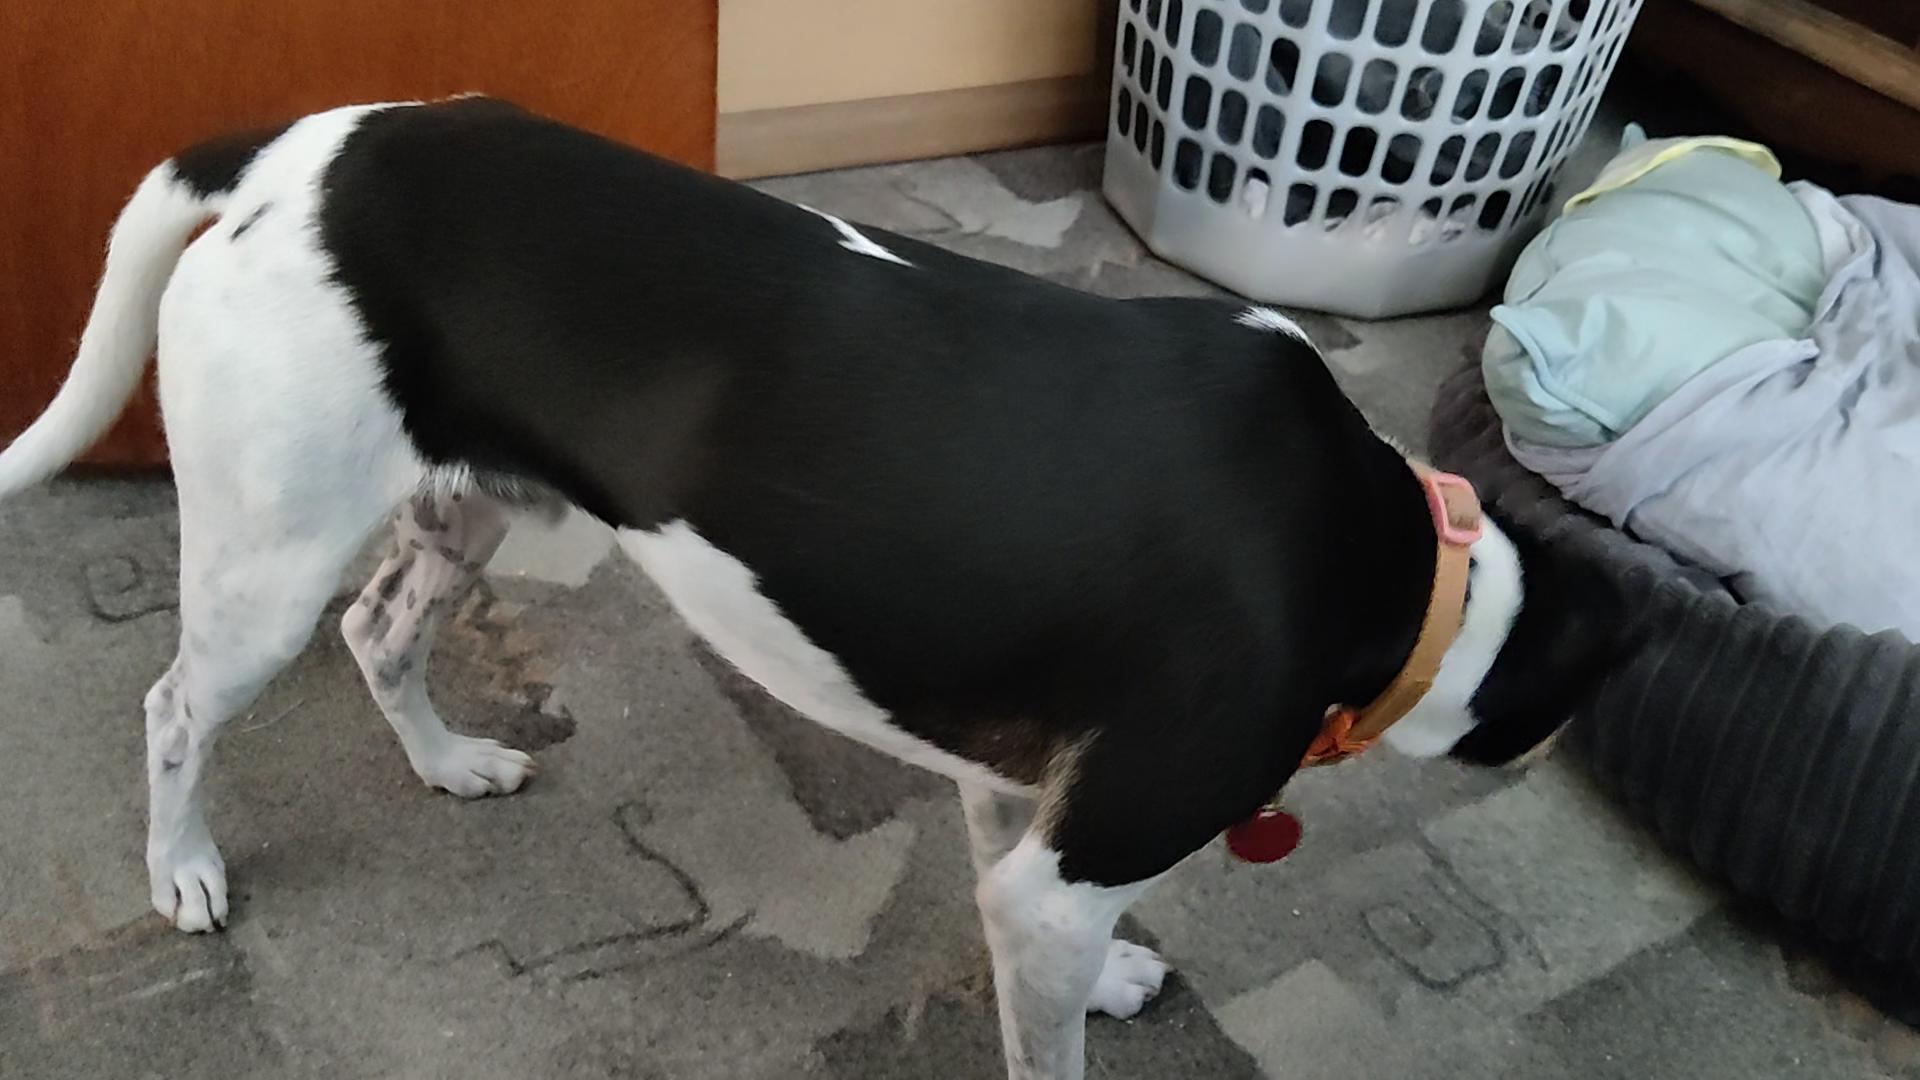Dog: (0, 90, 1667, 1079)
